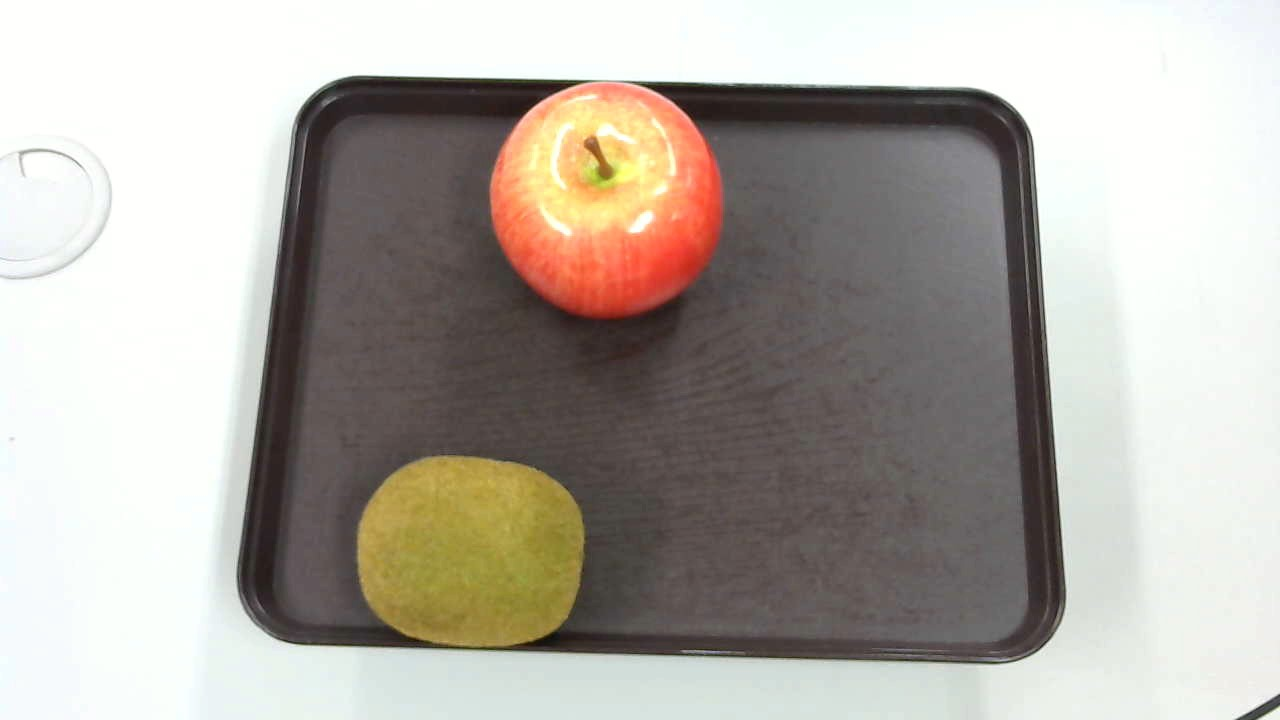kiwi fruit: (357, 456, 587, 651)
red apple: (485, 74, 729, 324)
